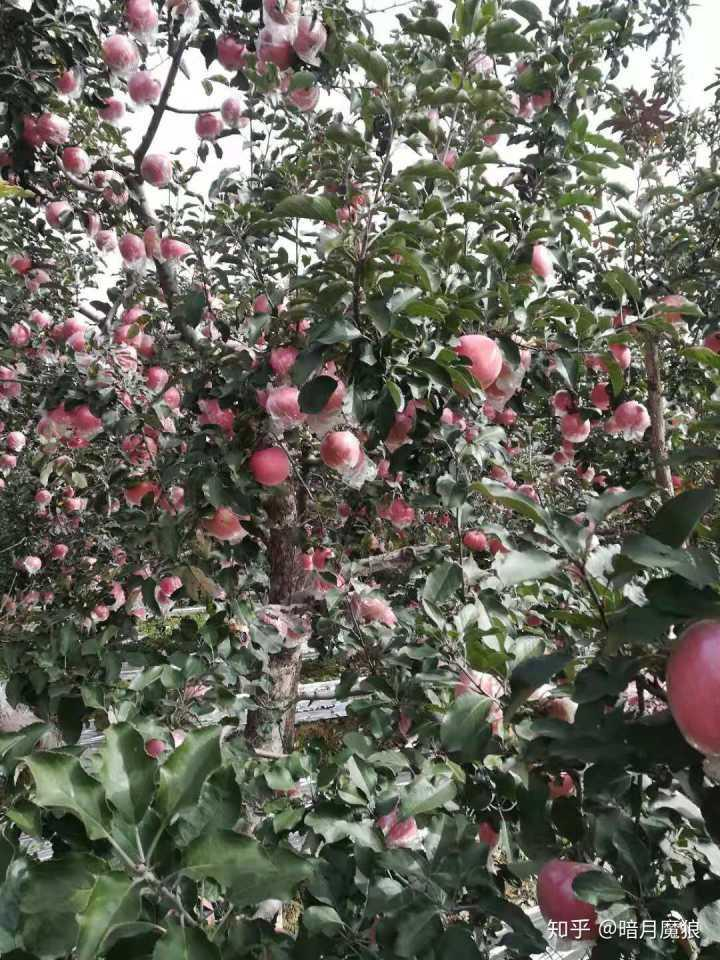apple: (665, 617, 719, 759), (539, 856, 607, 930), (450, 334, 503, 385), (251, 448, 294, 487), (199, 505, 244, 542), (321, 429, 356, 470), (268, 388, 306, 424), (102, 37, 137, 74), (127, 68, 159, 105), (126, 1, 160, 33), (529, 241, 556, 279)
